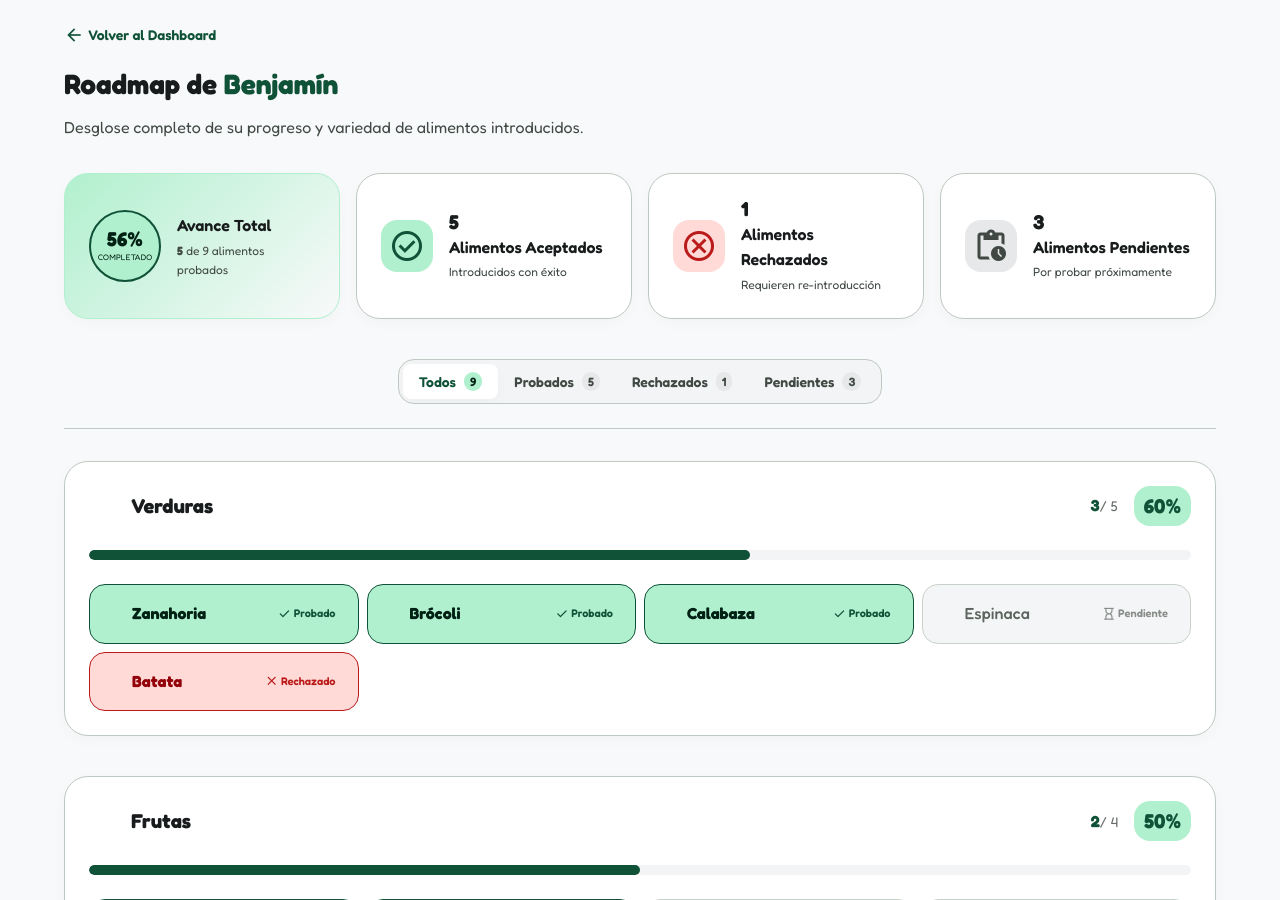
Test case: RoadmapDetailPage › filters food items based on selected tab click
Step 1. Click the button with class "filter-tab" showing "Probados 5" → (557, 382), box [498,364,616,399]
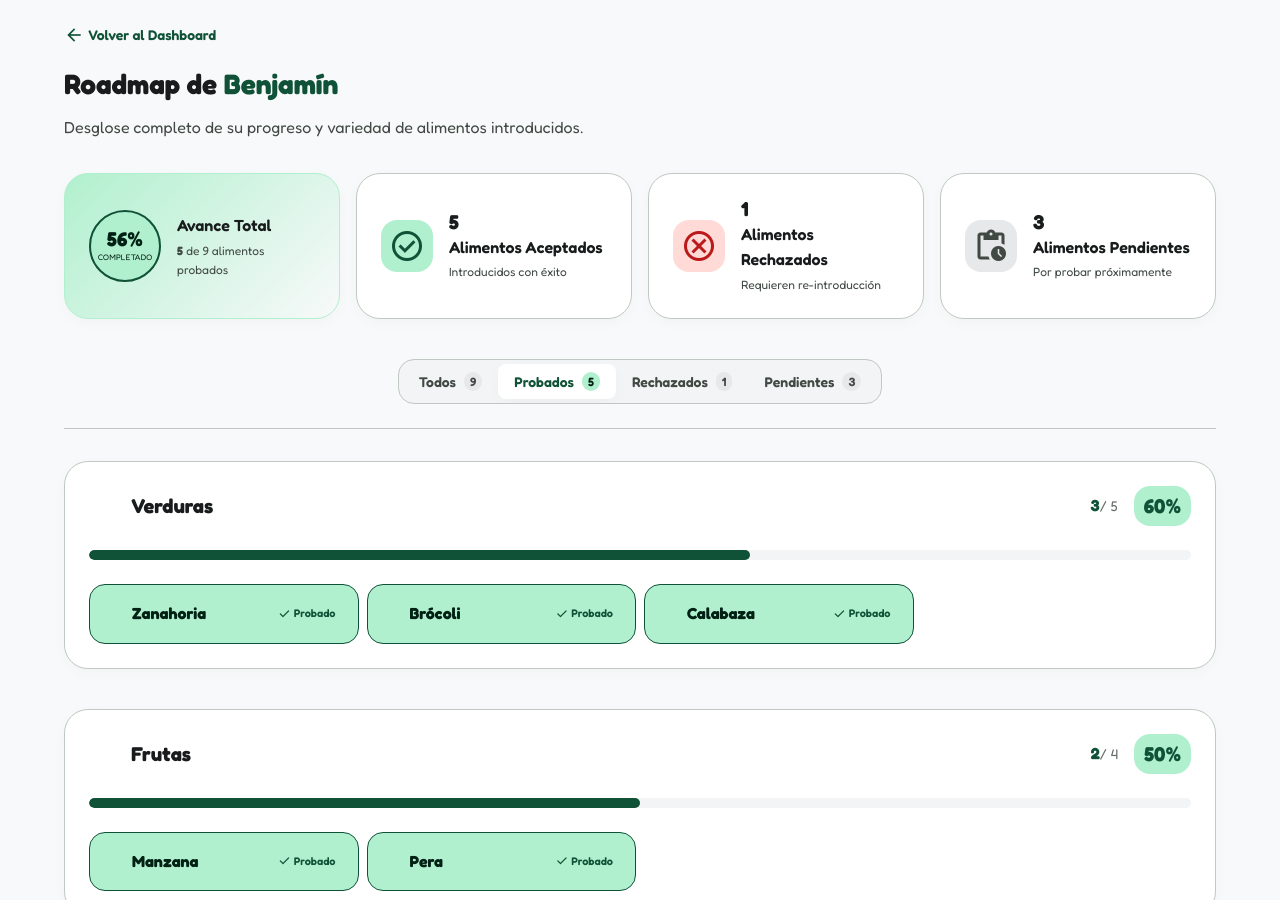
Expected: the text "Zanahoria" is shown, [132,601,206,627]
Expected: the text "Batata" is gone
Expected: the text "Espinaca" is gone
